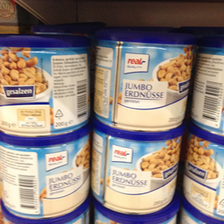nuts: (92, 30, 198, 131), (1, 34, 94, 136), (91, 120, 186, 216), (1, 127, 93, 220), (182, 124, 223, 224)
